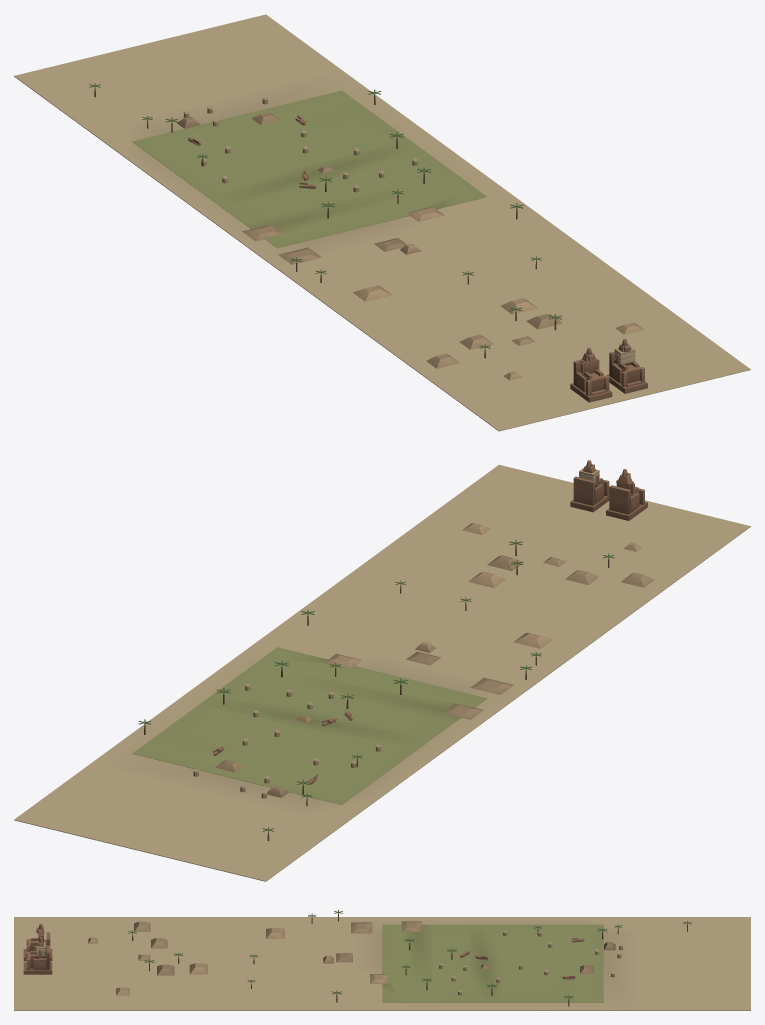
The model's file is memnon-roman.glb.
The picture shows the model from 3 angles, top to bottom: view 1: azimuth 30°, elevation 25°; view 2: azimuth 150°, elevation 25°; view 3: azimuth 270°, elevation 25°; orthographic projection. The views are drawn at different scales.
Visible parts, largest first — view 1: p0_ground, p1_colossi, p2_repair, p3_fields; view 2: p0_ground, p1_colossi, p2_repair, p3_fields; view 3: p0_ground, p1_colossi, p2_repair, p3_fields.
Boxes of the visible parts, x1=… form: p0_ground: x1=14, y1=14, x2=750, y2=431; p1_colossi: x1=177, y1=112, x2=647, y2=402; p2_repair: x1=183, y1=96, x2=635, y2=366; p3_fields: x1=89, y1=83, x2=561, y2=352; p0_ground: x1=14, y1=465, x2=750, y2=881; p1_colossi: x1=215, y1=460, x2=654, y2=797; p2_repair: x1=193, y1=468, x2=600, y2=798; p3_fields: x1=138, y1=540, x2=614, y2=835; p0_ground: x1=14, y1=917, x2=750, y2=1010; p1_colossi: x1=23, y1=921, x2=615, y2=995; p2_repair: x1=36, y1=930, x2=623, y2=995; p3_fields: x1=128, y1=910, x2=691, y2=1001.
Size of the model in its own units: 120 by 19.99 by 400.
